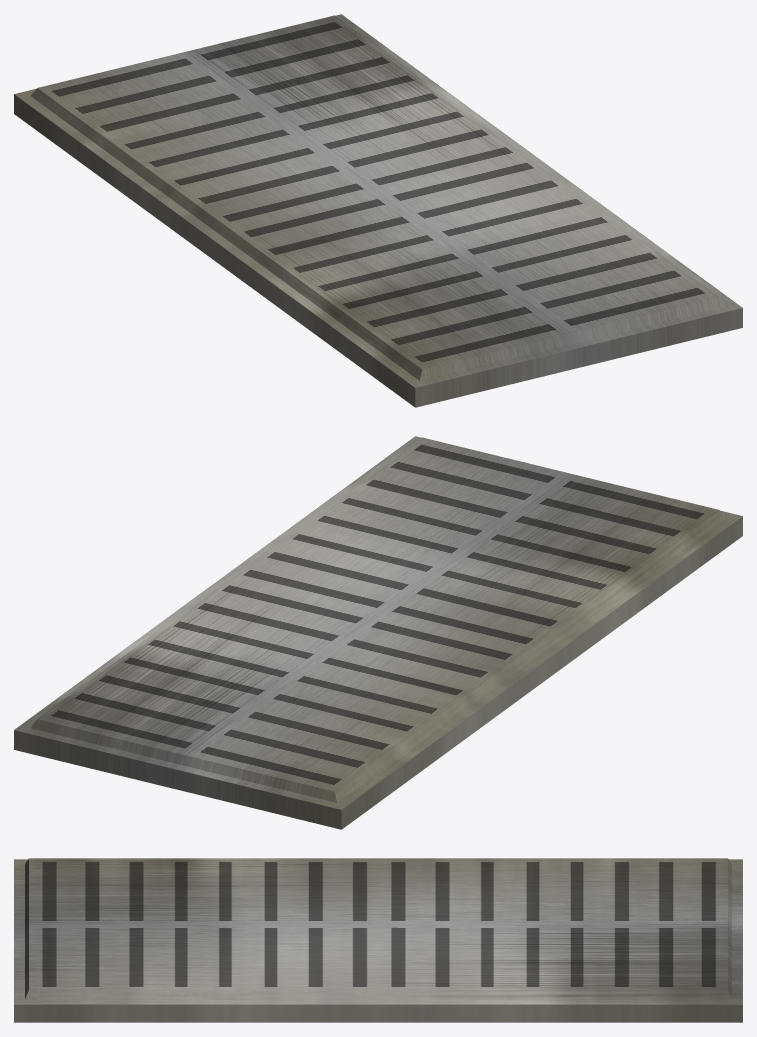
Rendered from floor1l.fbx.
3 views of the same model, one above another, from view 1: azimuth 30°, elevation 25°; view 2: azimuth 150°, elevation 25°; view 3: azimuth 270°, elevation 25° (orthographic). The views are drawn at different scales.
Parts seen in each view (by area): view 1: floorl; view 2: floorl; view 3: floorl.
Boxes of the visible parts, bbox=[...] form: floorl: bbox=[14, 14, 742, 407]; floorl: bbox=[14, 436, 742, 829]; floorl: bbox=[14, 858, 742, 1022].
Size of the model in its own units: 84.42 by 6.98 by 179.
